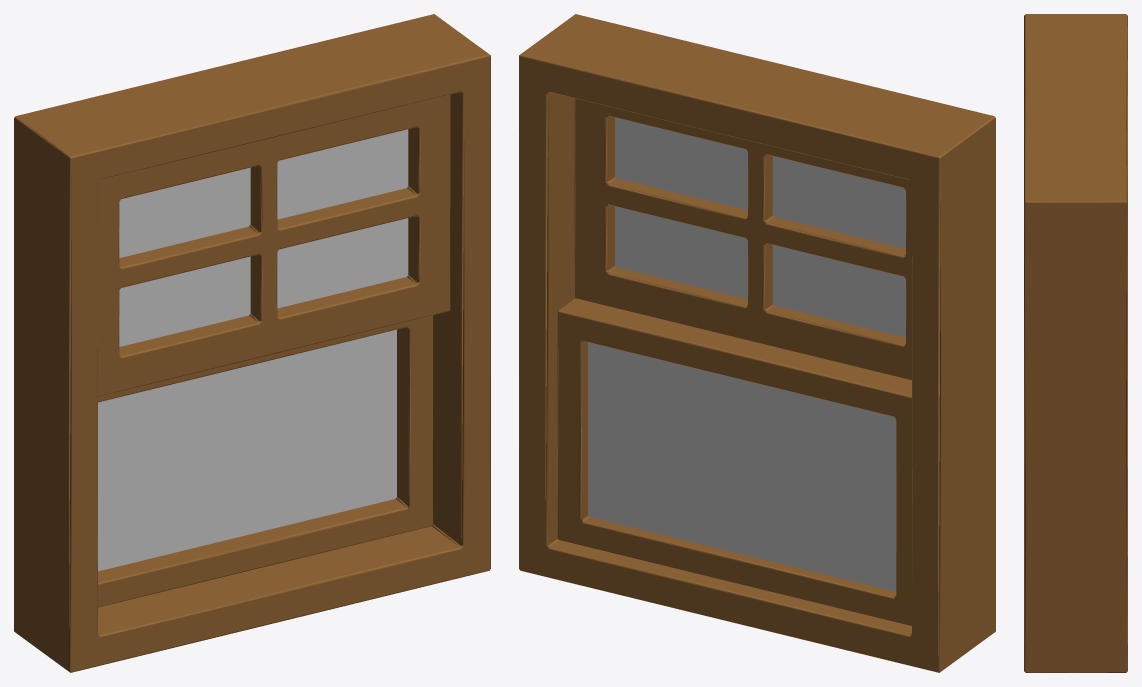
File: lemari.obj
The picture shows the model from 3 angles, left to right: view 1: azimuth 30°, elevation 25°; view 2: azimuth 150°, elevation 25°; view 3: azimuth 270°, elevation 25°; orthographic projection. The views are drawn at different scales.
Visible parts, largest first — view 1: Window.003_Cube.055; view 2: Window.003_Cube.055; view 3: Window.003_Cube.055.
Part boxes in pixels (x1,y1,x2,y2): Window.003_Cube.055: (14,14,490,672); Window.003_Cube.055: (519,14,995,672); Window.003_Cube.055: (1024,14,1127,672).
Size of the model in its own units: 2.51 by 2.94 by 0.5857.
